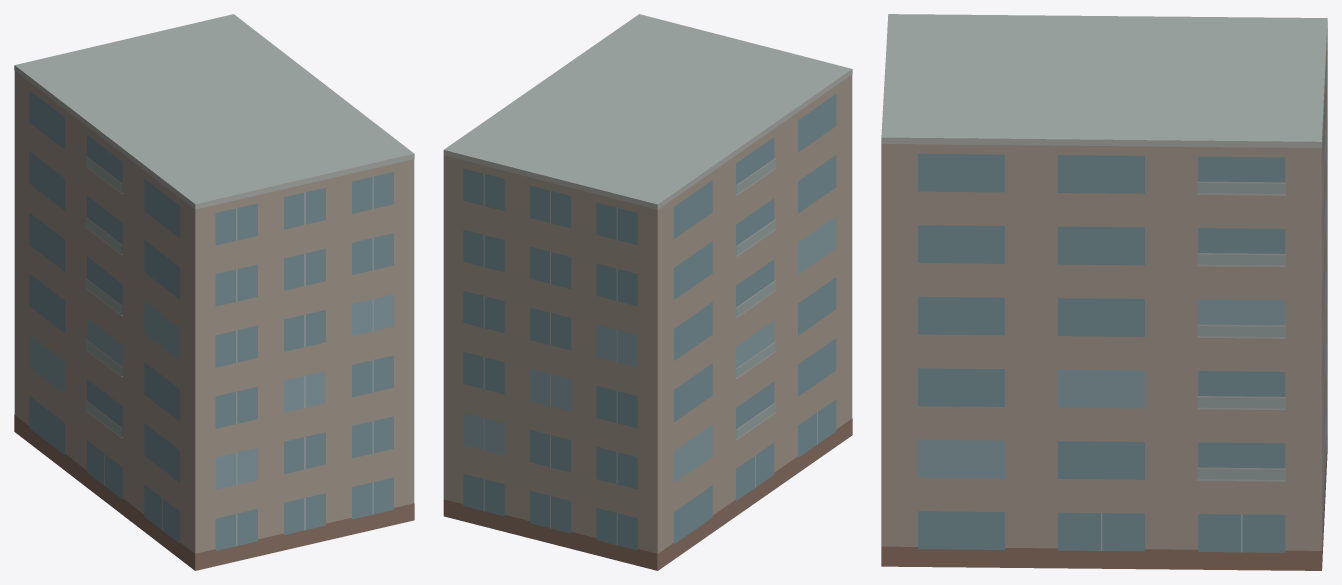
The model's file is survey-upis-32639615.glb.
3 views of the same model, side by side, from view 1: azimuth 30°, elevation 25°; view 2: azimuth 150°, elevation 25°; view 3: azimuth 270°, elevation 25° (orthographic). The views are drawn at different scales.
Visible parts, largest first — view 1: survey-upis-32639615.tmp; view 2: survey-upis-32639615.tmp; view 3: survey-upis-32639615.tmp.
Boxes of the visible parts, x1,y1,x2,y2 form: survey-upis-32639615.tmp: (14,14,414,570); survey-upis-32639615.tmp: (443,14,852,570); survey-upis-32639615.tmp: (881,14,1327,570).
Bounding box in the file's own units: 10.62 × 16.6 × 15.66.
